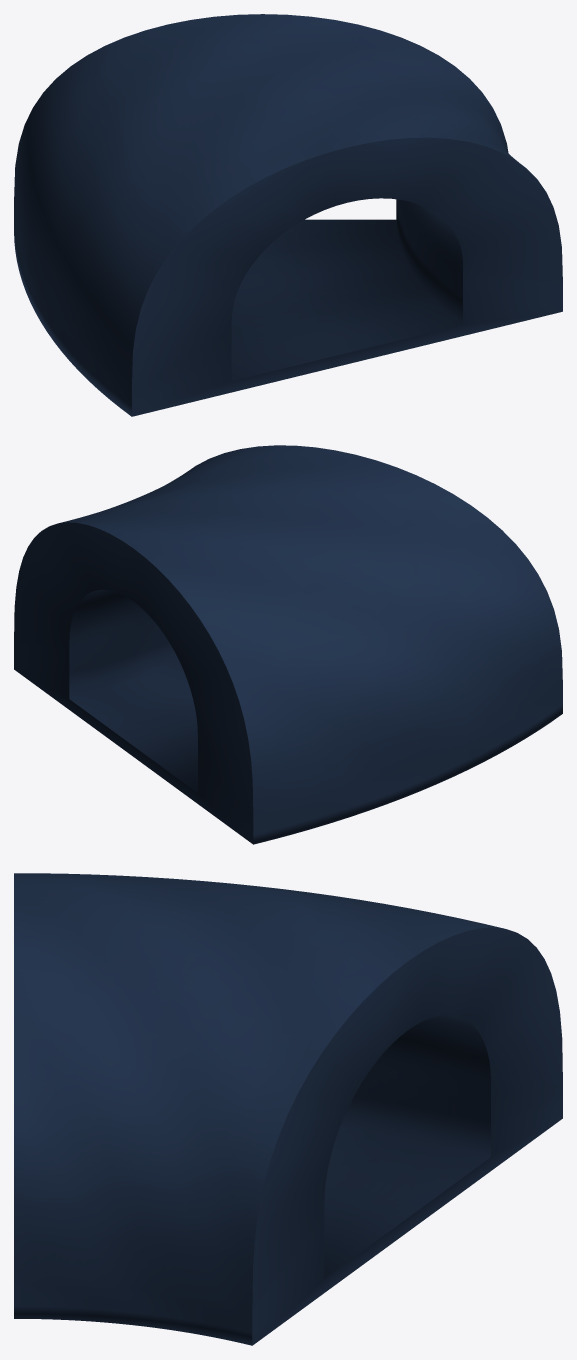
The model's file is curve_right_30_terrain.glb.
The picture shows the model from 3 angles, top to bottom: view 1: azimuth 30°, elevation 25°; view 2: azimuth 150°, elevation 25°; view 3: azimuth 270°, elevation 25°; orthographic projection. The views are drawn at different scales.
Parts seen in each view (by area): view 1: TerrainRoof.008; view 2: TerrainRoof.008; view 3: TerrainRoof.008.
Part boxes in pixels (bbox=[...]): TerrainRoof.008: bbox=[14, 14, 562, 416]; TerrainRoof.008: bbox=[14, 445, 562, 844]; TerrainRoof.008: bbox=[14, 873, 562, 1345].
Bounding box in the file's own units: 31.32 × 13.65 × 25.1.
